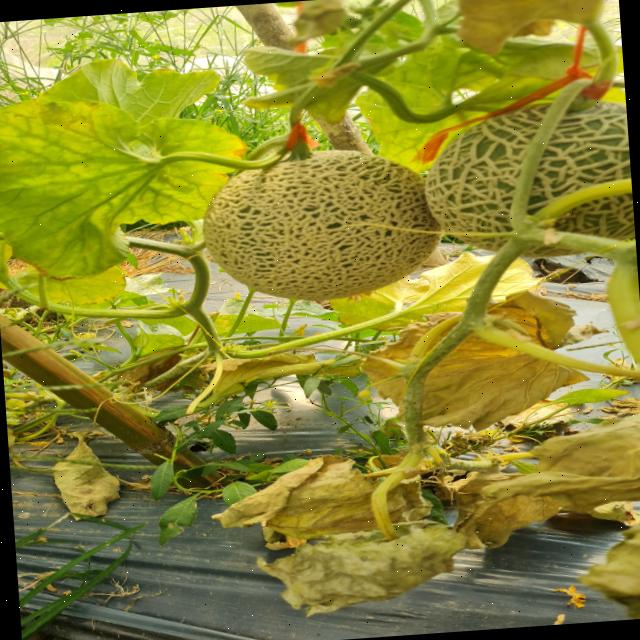melon: (204, 149, 439, 300), (424, 104, 550, 233), (528, 101, 631, 214), (554, 193, 635, 239)
